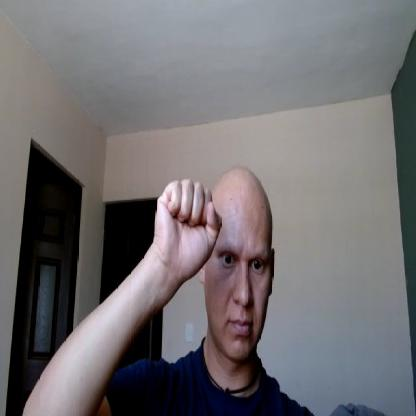S: (153, 175, 223, 280)
